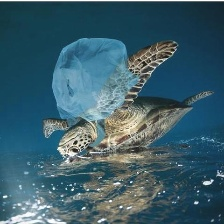plastic_bag: (46, 33, 139, 150)
